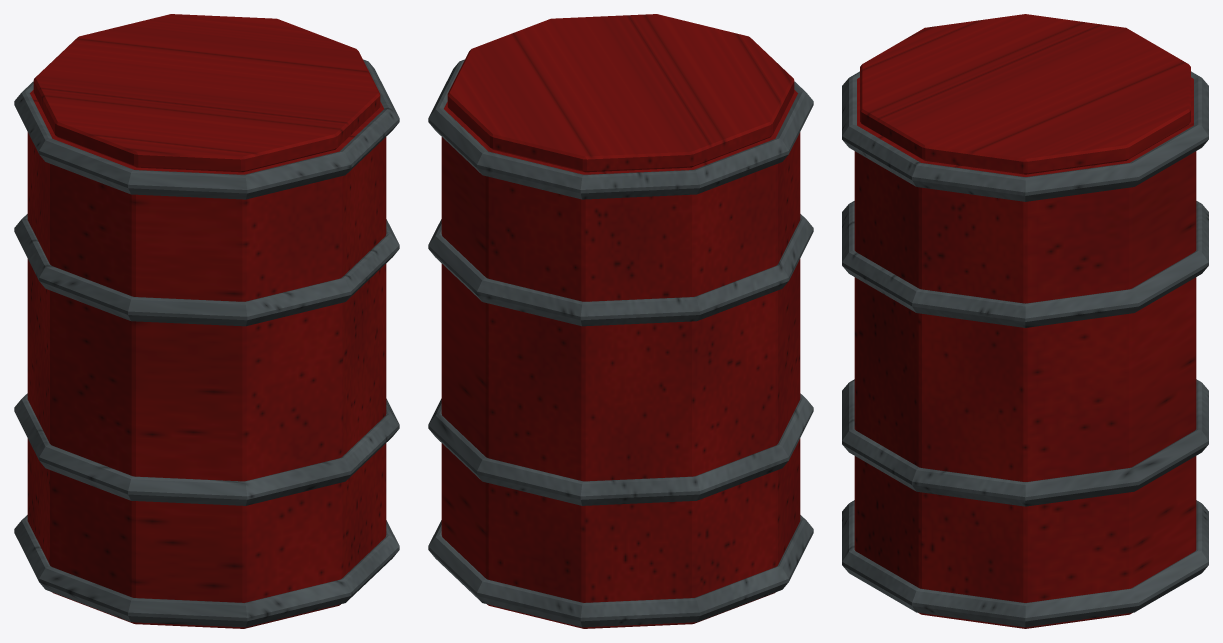
The model's file is PROP-9523B2D29DAD_lod1.glb.
3 views of the same model, side by side, from view 1: azimuth 30°, elevation 25°; view 2: azimuth 150°, elevation 25°; view 3: azimuth 270°, elevation 25° (orthographic).
Parts seen in each view (by area): view 1: barrel_body.003, barrel_lid.003, barrel_ribs.003; view 2: barrel_body.003, barrel_lid.003, barrel_ribs.003; view 3: barrel_body.003, barrel_ribs.003, barrel_lid.003.
Part boxes in pixels (box(x1,y1,x2,y2)): barrel_body.003: box(27, 90, 386, 628); barrel_lid.003: box(33, 14, 380, 172); barrel_ribs.003: box(14, 59, 399, 627); barrel_body.003: box(441, 90, 800, 628); barrel_lid.003: box(447, 14, 794, 172); barrel_ribs.003: box(428, 59, 813, 627); barrel_body.003: box(854, 77, 1196, 628); barrel_ribs.003: box(842, 71, 1208, 627); barrel_lid.003: box(860, 14, 1190, 174).
Bounding box in the file's own units: 0.6652 × 0.89 × 0.6327.
Materials: 2 (2 with a texture image).
